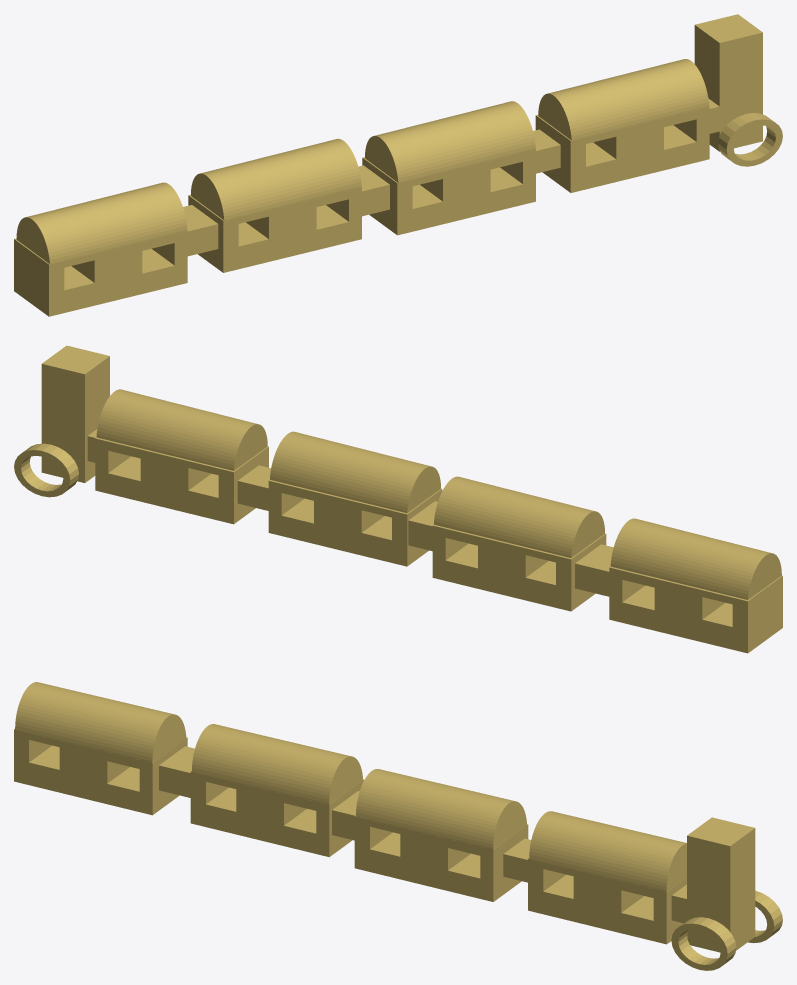
Rendered from project 150.glb.
3 views of the same model, one above another, from view 1: azimuth 30°, elevation 25°; view 2: azimuth 150°, elevation 25°; view 3: azimuth 330°, elevation 25° (orthographic).
Visible parts, largest first — view 1: Mesh_Mesh_head_geo.001_lambert2SG.001; view 2: Mesh_Mesh_head_geo.001_lambert2SG.001; view 3: Mesh_Mesh_head_geo.001_lambert2SG.001.
Boxes of the visible parts, <box> form: Mesh_Mesh_head_geo.001_lambert2SG.001: <box>14,14,782,316</box>; Mesh_Mesh_head_geo.001_lambert2SG.001: <box>14,345,782,653</box>; Mesh_Mesh_head_geo.001_lambert2SG.001: <box>14,682,782,970</box>.
Size of the model in its own units: 337 by 53 by 39.
